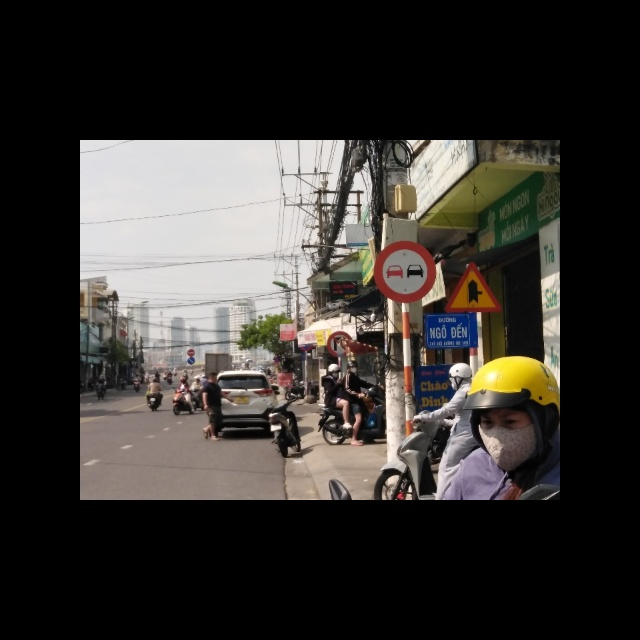Cấm vượt: (374, 239, 437, 303)
Giao nhau với đường không ưu tiên: (446, 261, 504, 314)
